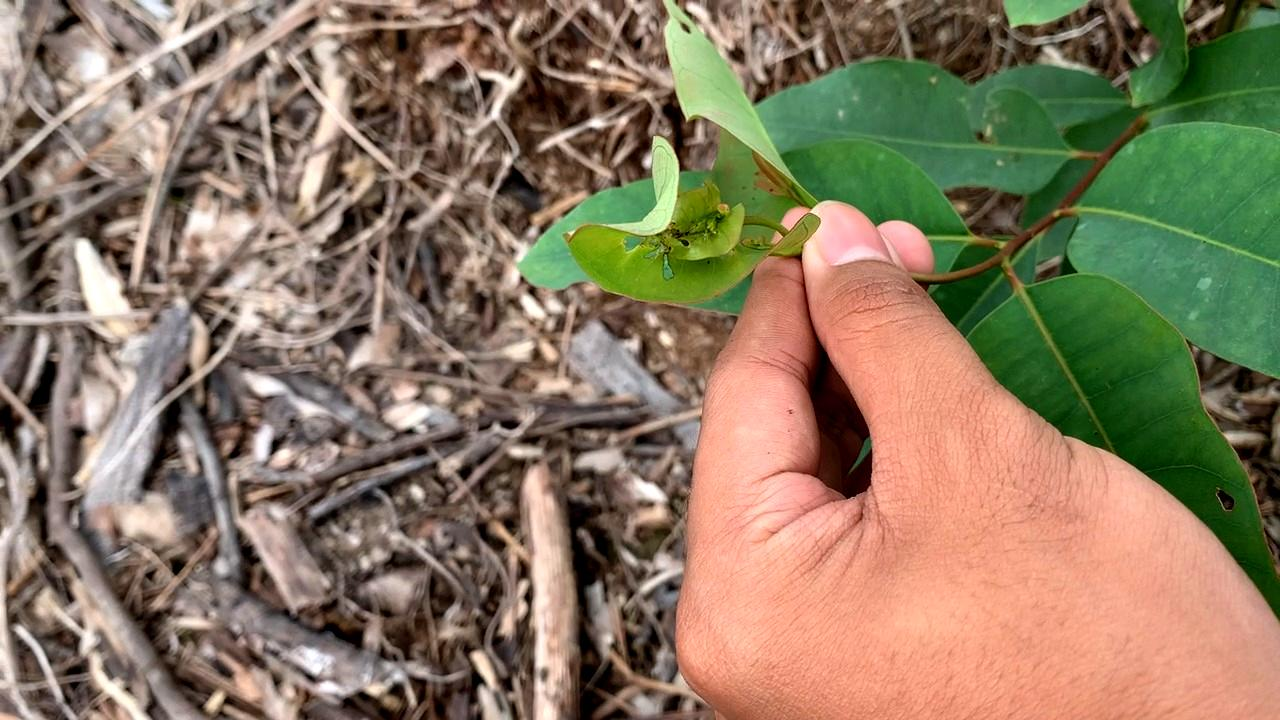Leaf Roller - Leaf: (547, 136, 819, 317)
